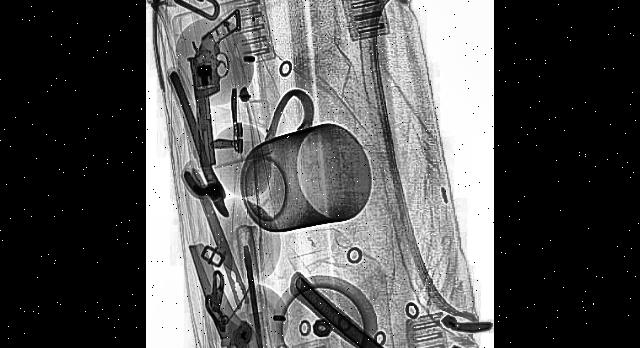Gun: (188, 8, 250, 172)
Pliers: (152, 70, 246, 235)
Scissors: (191, 164, 251, 316)
